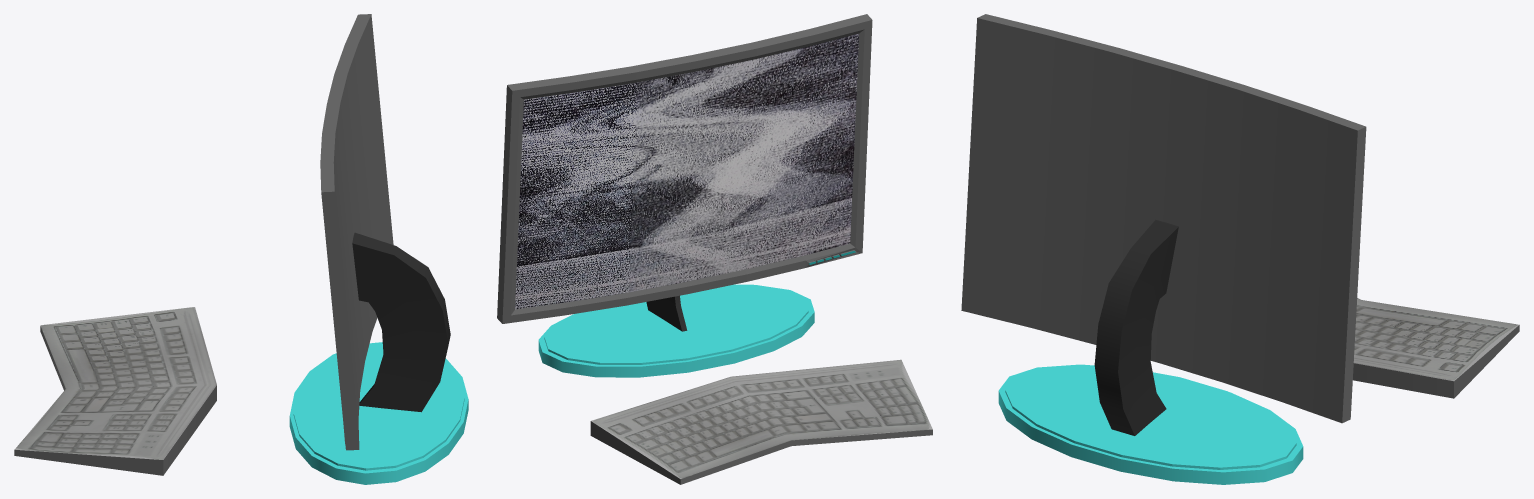
The model's file is Computer_Keyboard.FBX.
The picture shows the model from 3 angles, left to right: view 1: azimuth 30°, elevation 25°; view 2: azimuth 150°, elevation 25°; view 3: azimuth 270°, elevation 25°; orthographic projection. The views are drawn at different scales.
Visible parts, largest first — view 1: ComputerStand, Keyboard; view 2: ComputerStand, Keyboard; view 3: ComputerStand, Keyboard.
Part boxes in pixels (x1,y1,x2,y2): ComputerStand: (289, 14, 468, 484); Keyboard: (14, 307, 216, 475); ComputerStand: (497, 14, 872, 377); Keyboard: (590, 359, 932, 484); ComputerStand: (961, 14, 1366, 484); Keyboard: (1353, 298, 1519, 398).
Bounding box in the file's own units: 30.06 × 21.77 × 31.24.
4 materials, 3 textured.
